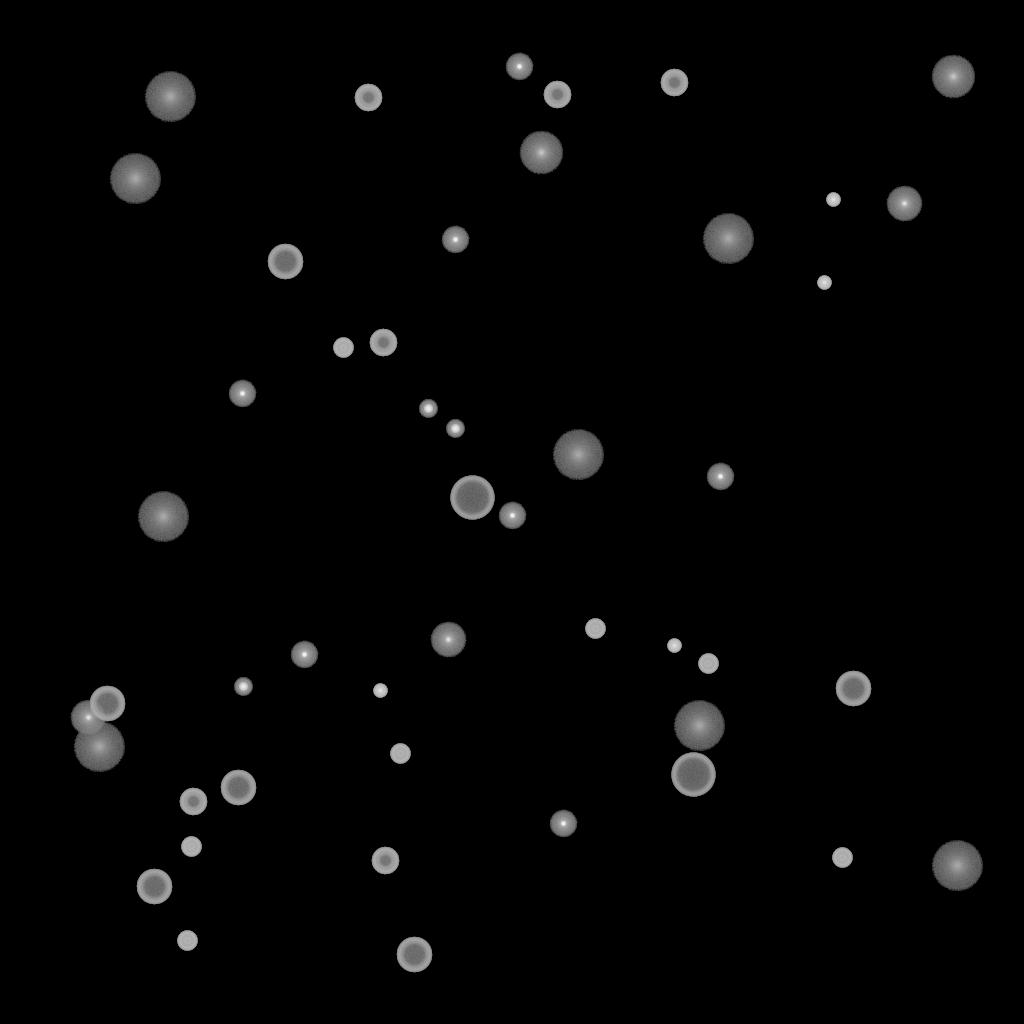depth:-10: (228, 380, 256, 408), (498, 502, 526, 530), (290, 641, 318, 669), (706, 463, 734, 491), (549, 810, 577, 838), (505, 53, 533, 81), (441, 226, 469, 254)
depth:-20: (234, 678, 252, 696), (446, 420, 464, 438), (419, 400, 437, 418)
depth:-30: (667, 639, 681, 653), (817, 276, 831, 290), (826, 193, 840, 207), (373, 684, 387, 698)
depth:-40: (832, 848, 852, 868), (585, 619, 605, 639), (698, 654, 718, 674), (177, 931, 197, 951), (390, 744, 410, 764), (333, 338, 353, 358), (181, 837, 201, 857)
depth:-50: (660, 69, 688, 97), (371, 847, 399, 875), (369, 329, 397, 357), (543, 81, 571, 109), (354, 84, 382, 112), (179, 788, 207, 816)
depth:-60: (136, 869, 172, 905), (267, 244, 303, 280), (220, 770, 256, 806), (835, 671, 871, 707), (396, 937, 432, 973), (89, 686, 125, 722)
depth:-70: (450, 476, 494, 520), (671, 753, 715, 797)
depth:0: (886, 186, 922, 222), (70, 700, 106, 736), (430, 622, 466, 658)
depth:10: (519, 131, 563, 175), (931, 55, 975, 99)
depth:20: (702, 214, 754, 264), (552, 430, 604, 480), (931, 841, 983, 891), (109, 154, 161, 204), (144, 72, 196, 122), (673, 701, 725, 751), (137, 492, 189, 542), (73, 722, 125, 772)
